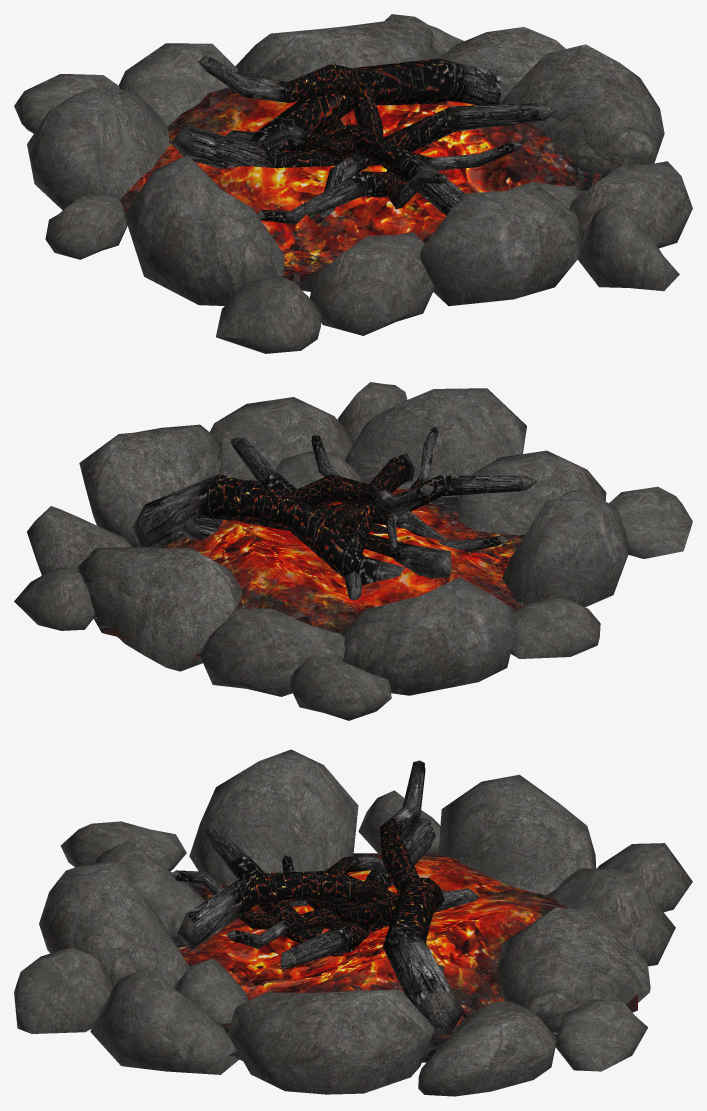
File: campfire.dae
3 views of the same model, one above another, from view 1: azimuth 30°, elevation 25°; view 2: azimuth 150°, elevation 25°; view 3: azimuth 270°, elevation 25° (orthographic). The views are drawn at different scales.
Visible parts, largest first — view 1: campfier_branch (×26); view 2: campfier_branch (×25); view 3: campfier_branch (×26).
Part boxes in pixels (x1,y1,x2,y2): campfier_branch (×26): (14,14,692,353); campfier_branch (×25): (14,382,692,720); campfier_branch (×26): (14,749,692,1096).
Size of the model in its own units: 68.41 by 70.67 by 17.83.
Materials: 4 (4 with a texture image).
